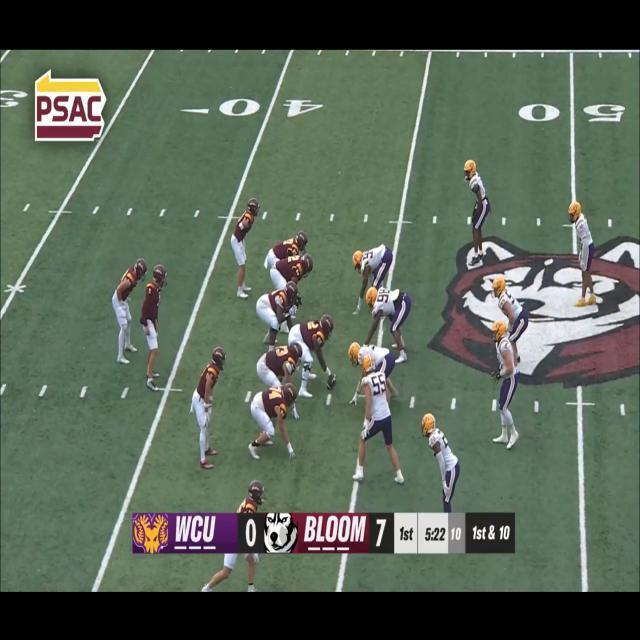football: (325, 371, 337, 390)
